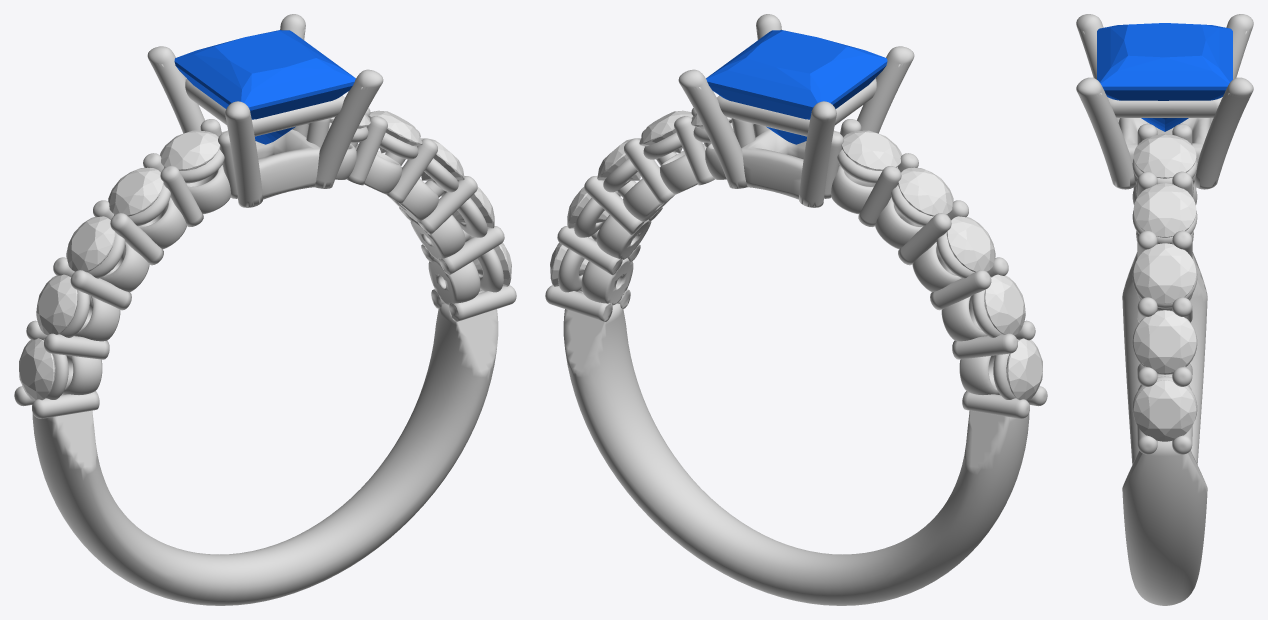
File: bluesapphire-princess-platinum-4prong-taperedband-11stone.glb
3 renders of one model, left to right at view 1: azimuth 30°, elevation 25°; view 2: azimuth 150°, elevation 25°; view 3: azimuth 270°, elevation 25°, orthographic.
Visible parts, largest first — view 1: metal, stone, side.002, side.003, side.001, side.004, side, side.008, side.007; view 2: metal, stone, side.002, side.003, side.001, side.004, side, side.008, side.007; view 3: metal, stone, side.006, side.005, side.007, side.008, side.009.
Part boxes in pixels (x1=…): metal: x1=14, y1=14, x2=516, y2=605; stone: x1=174, y1=30, x2=355, y2=144; side.002: x1=66, y1=216, x2=115, y2=272; side.003: x1=108, y1=167, x2=163, y2=216; side.001: x1=36, y1=274, x2=77, y2=335; side.004: x1=160, y1=130, x2=220, y2=170; side: x1=19, y1=338, x2=55, y2=400; side.008: x1=368, y1=110, x2=422, y2=153; side.007: x1=421, y1=138, x2=464, y2=180; metal: x1=545, y1=14, x2=1047, y2=605; stone: x1=706, y1=30, x2=887, y2=144; side.002: x1=946, y1=216, x2=995, y2=272; side.003: x1=898, y1=167, x2=953, y2=216; side.001: x1=984, y1=274, x2=1025, y2=335; side.004: x1=841, y1=130, x2=901, y2=170; side: x1=1006, y1=338, x2=1042, y2=400; side.008: x1=639, y1=110, x2=693, y2=153; side.007: x1=597, y1=138, x2=640, y2=180; metal: x1=1076, y1=14, x2=1253, y2=605; stone: x1=1097, y1=23, x2=1232, y2=131; side.006: x1=1133, y1=310, x2=1196, y2=373; side.005: x1=1133, y1=380, x2=1196, y2=441; side.007: x1=1133, y1=243, x2=1196, y2=303; side.008: x1=1133, y1=183, x2=1196, y2=237; side.009: x1=1133, y1=134, x2=1196, y2=178.
Bounding box in the file's own units: 22 × 23.85 × 7.08.
